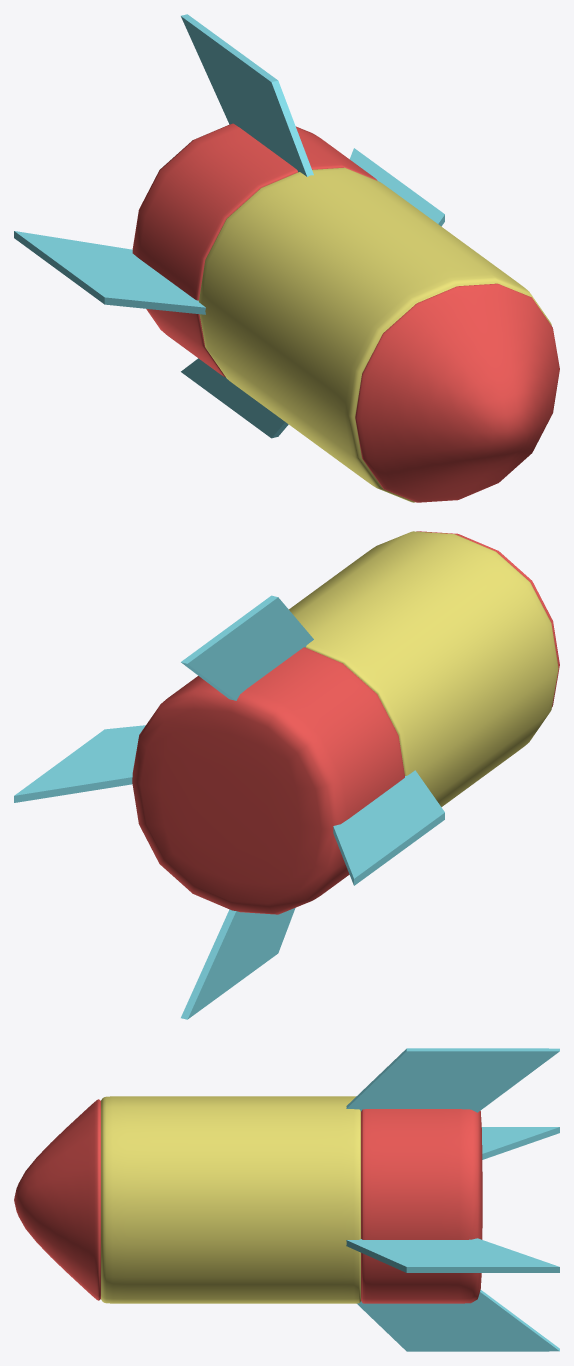
Rendered from RocketRotate.fbx.
The picture shows the model from 3 angles, top to bottom: view 1: azimuth 30°, elevation 25°; view 2: azimuth 150°, elevation 25°; view 3: azimuth 270°, elevation 25°; orthographic projection. The views are drawn at different scales.
Visible parts, largest first — view 1: Rocket1; view 2: Rocket1; view 3: Rocket1.
Part boxes in pixels (<box>): Rocket1: <box>14,14,559,502</box>; Rocket1: <box>14,531,559,1019</box>; Rocket1: <box>14,1048,559,1351</box>.
Size of the model in its own units: 0.3702 by 0.3702 by 0.6098.
